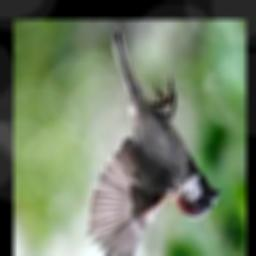Sparrow: (87, 28, 220, 256)
